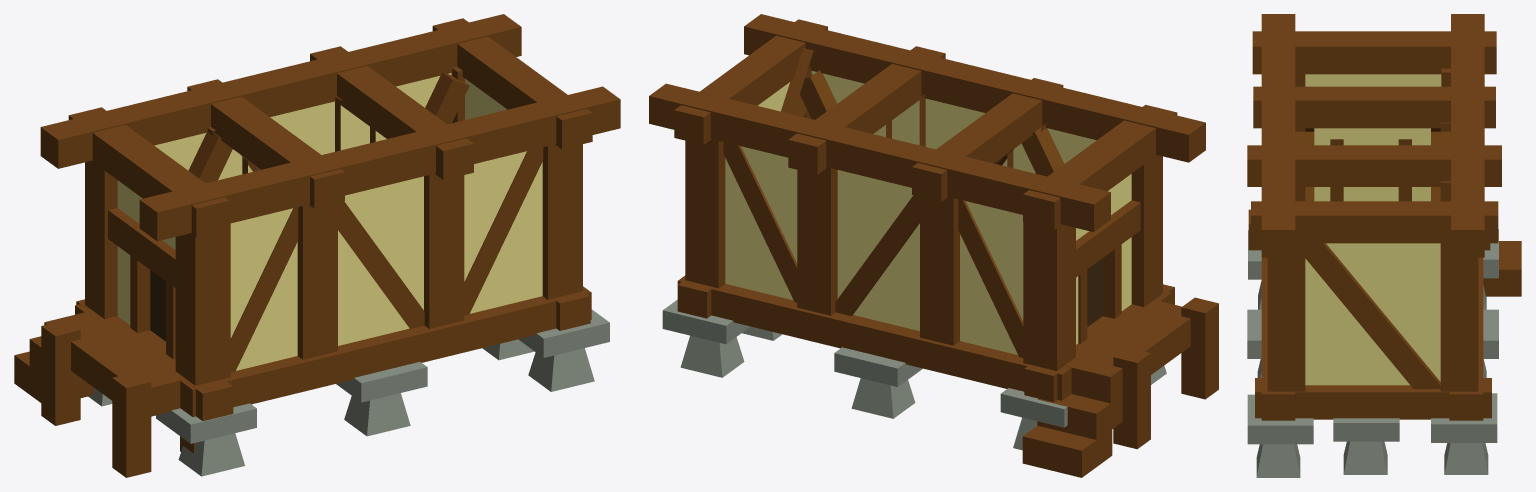
File: smallgranary.fbx
3 views of the same model, side by side, from view 1: azimuth 30°, elevation 25°; view 2: azimuth 150°, elevation 25°; view 3: azimuth 270°, elevation 25° (orthographic). The views are drawn at different scales.
Visible parts, largest first — view 1: polySurface56; view 2: polySurface56; view 3: polySurface56.
Boxes of the visible parts, bbox=[...] form: polySurface56: bbox=[14, 14, 620, 477]; polySurface56: bbox=[649, 14, 1218, 477]; polySurface56: bbox=[1247, 14, 1521, 477].
Bounding box in the file's own units: 183 × 98.53 × 93.83.
Materials: 1 (1 with a texture image).
